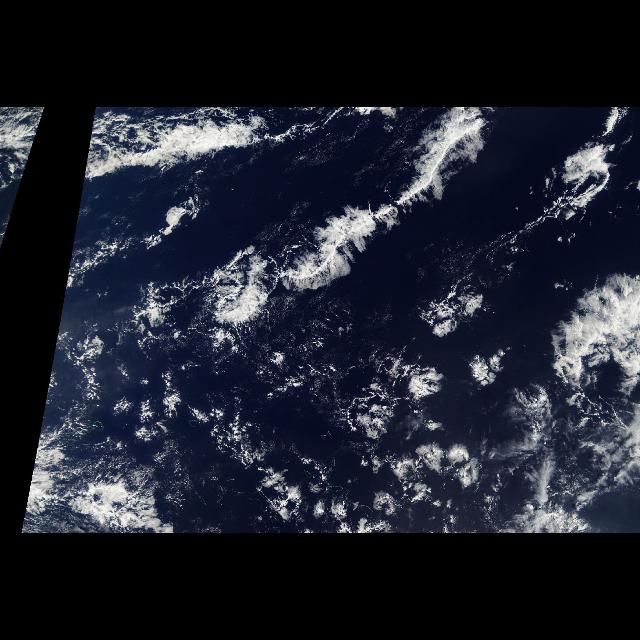Fish: (168, 115, 507, 339)
